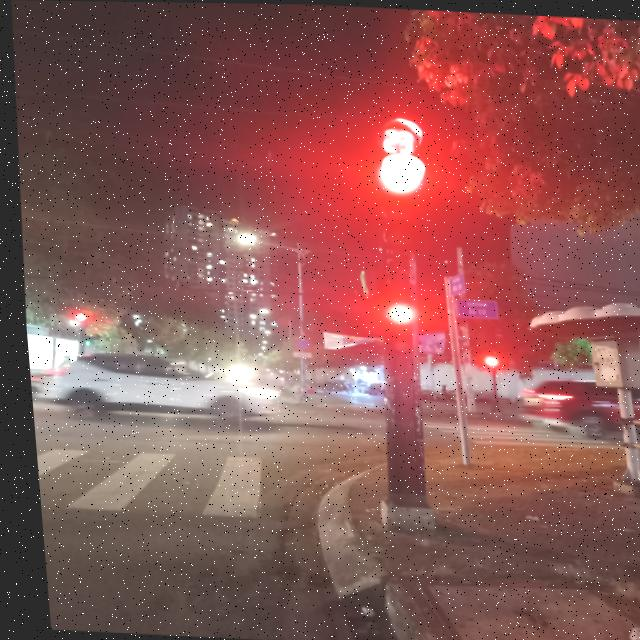Red: (367, 152, 427, 253), (377, 295, 415, 363)
